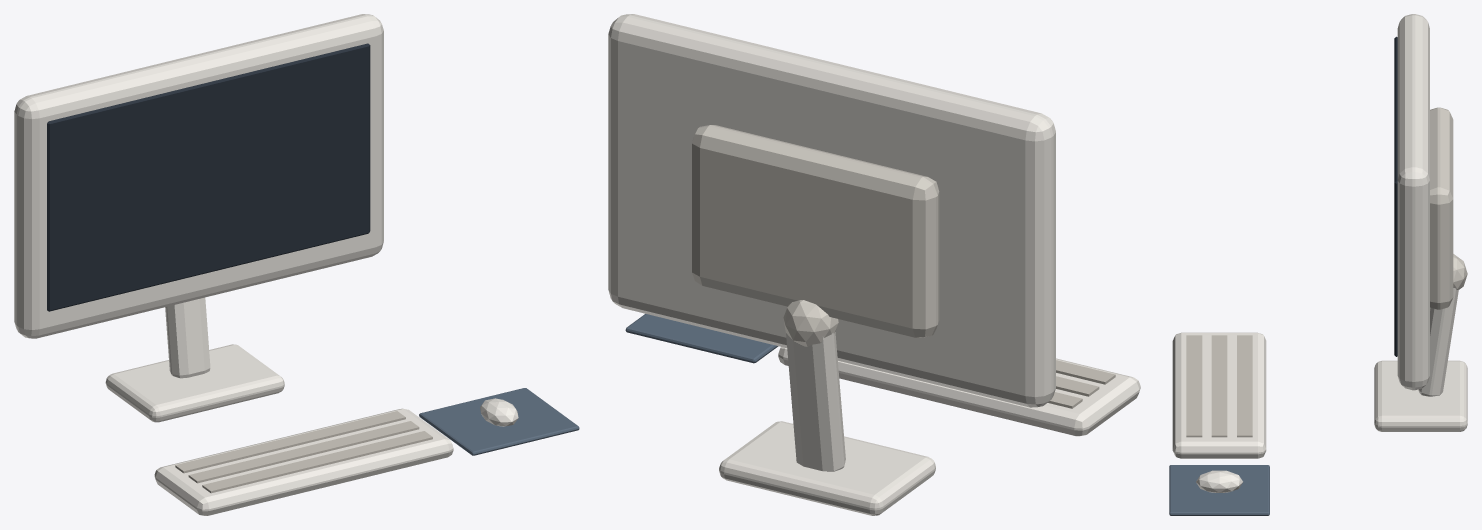
The model's file is monitor_a.glb.
The picture shows the model from 3 angles, left to right: view 1: azimuth 30°, elevation 25°; view 2: azimuth 150°, elevation 25°; view 3: azimuth 270°, elevation 25°; orthographic projection. The views are drawn at different scales.
Visible parts, largest first — view 1: Monitor, Screen; view 2: Monitor; view 3: Monitor, Screen.
Part boxes in pixels (x1,y1,x2,y2): Monitor: [14, 14, 579, 515]; Screen: [47, 43, 370, 311]; Monitor: [608, 14, 1140, 515]; Monitor: [1169, 14, 1467, 515]; Screen: [1394, 36, 1397, 356].
Bounding box in the file's own units: 0.64 × 0.48 × 0.415.
